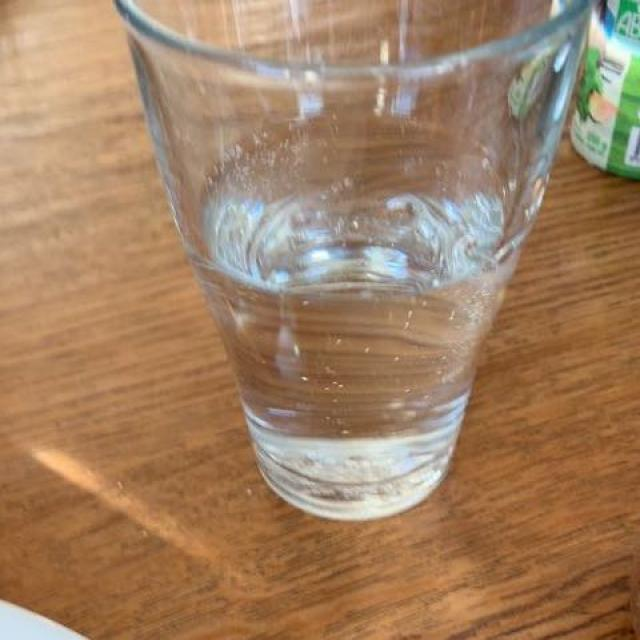water: (196, 105, 526, 470)
